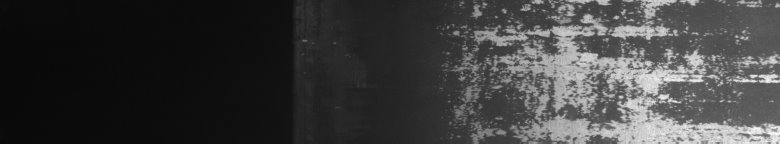kb: (437, 4, 776, 136)
